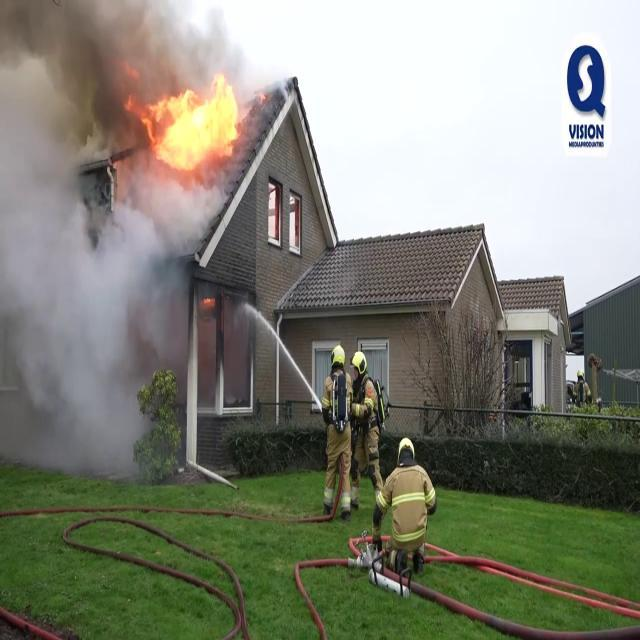Fire: (136, 66, 245, 177)
Smoke: (0, 0, 182, 440)
